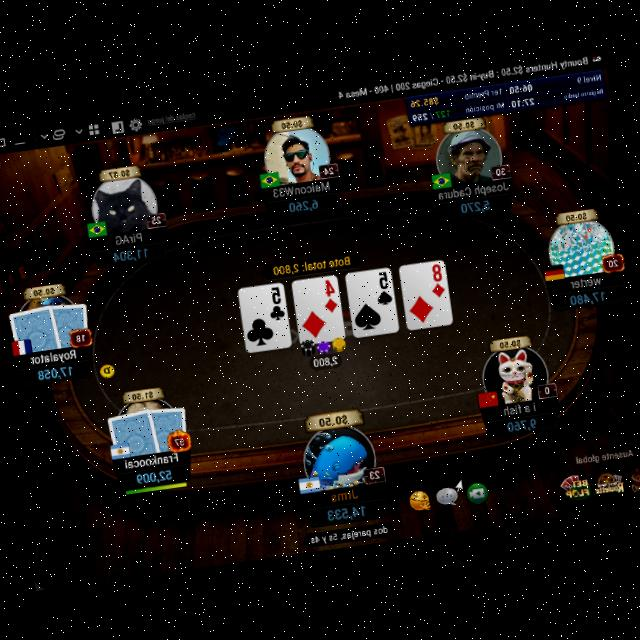4d: (320, 277, 340, 316)
5c: (265, 284, 288, 324)
5s: (372, 268, 394, 308)
6s: (372, 268, 394, 308)
8d: (427, 260, 448, 300), (426, 261, 447, 300)
bet_text: (310, 352, 340, 369)
card_back: (105, 404, 162, 462), (6, 300, 63, 358), (45, 298, 93, 350), (145, 402, 192, 454)
dealer: (96, 360, 118, 380)
pot_text: (271, 254, 352, 277)
stack_text: (326, 501, 366, 524), (568, 286, 607, 306), (36, 362, 76, 381), (111, 244, 149, 264), (136, 466, 174, 485), (504, 414, 538, 434), (286, 196, 320, 215), (459, 197, 492, 216)
